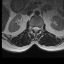CCS_normal: (35, 24, 36, 33)
LFS_normal: (39, 25, 41, 32)
LLS_normal: (36, 25, 39, 32)
RFS_normal: (31, 25, 33, 31)
RLS_normal: (33, 25, 35, 31)
